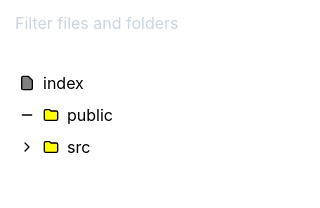
Test: TreeView Component › expands and collapses folder nodes
Click the text "src": (79, 147) [67,135,90,159]
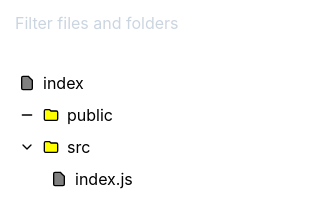
Check: the text "index.js" is shown, box [75,167,133,191]
Click the text "src": (79, 147) [67,135,90,159]
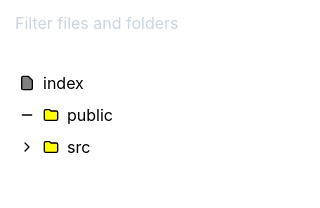
Check: the text "index.js" is gone
